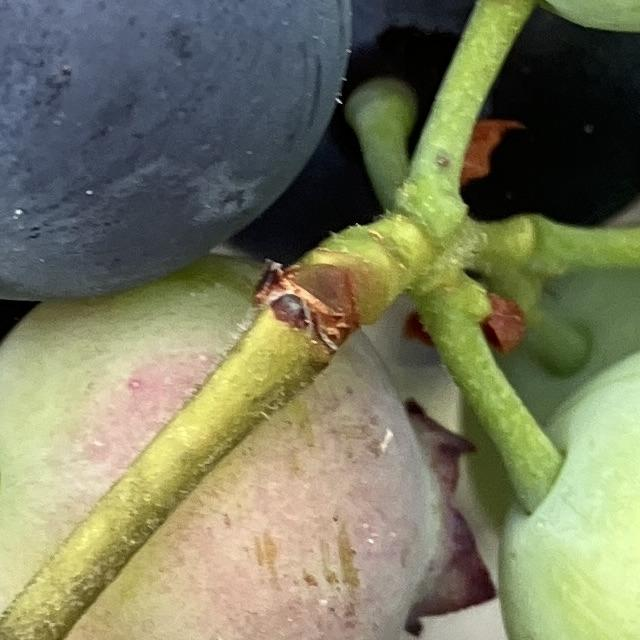Blueberries: (490, 336, 640, 640)
